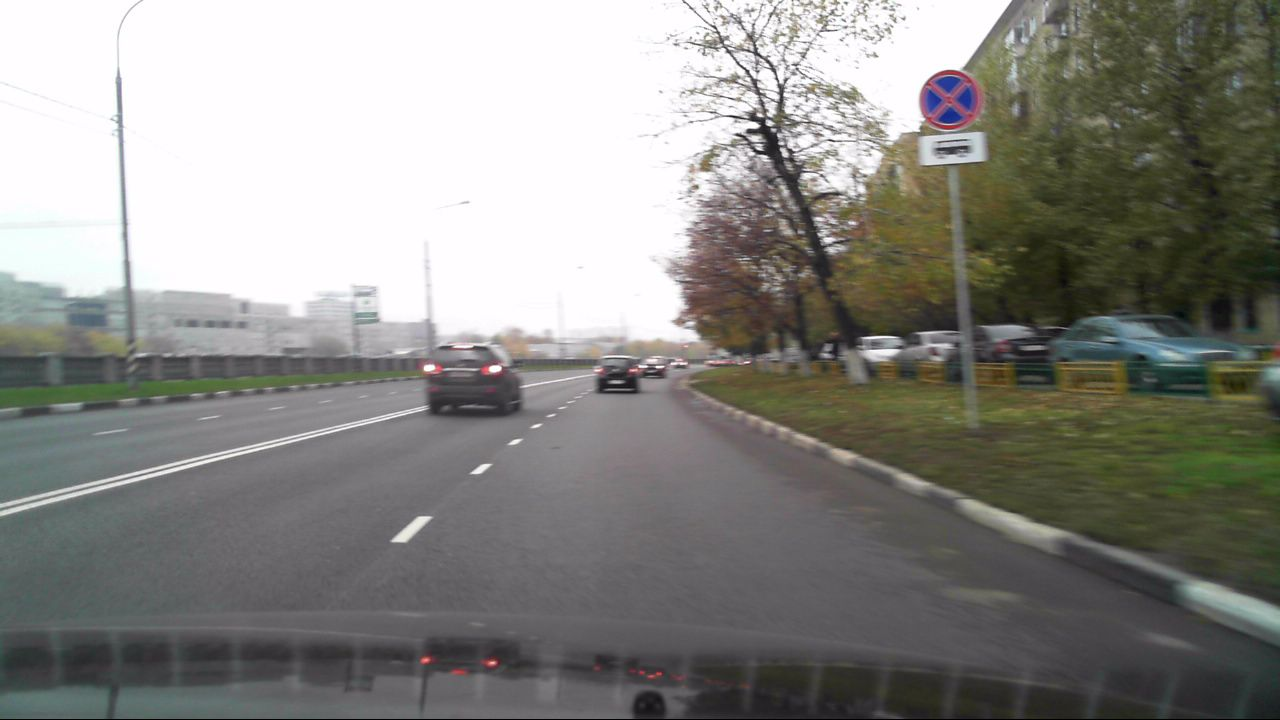No Parking: (920, 76, 980, 131)
